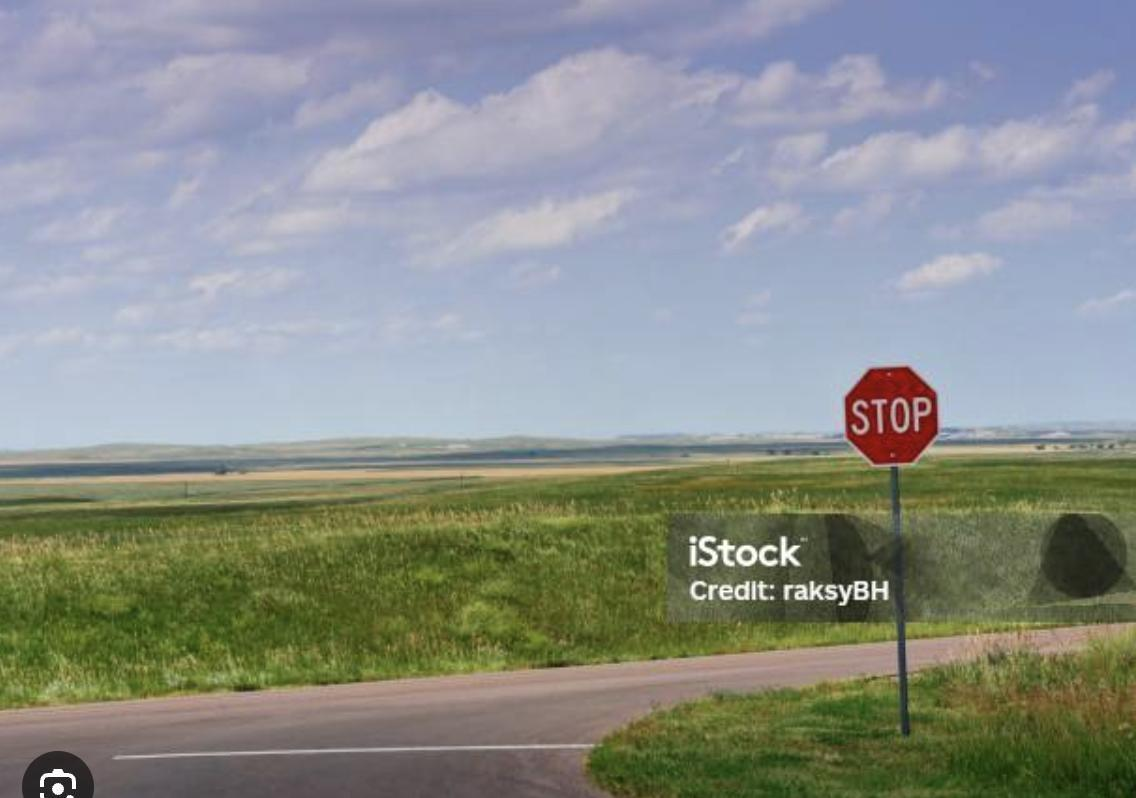Stop-Sign: (846, 366, 938, 466)
